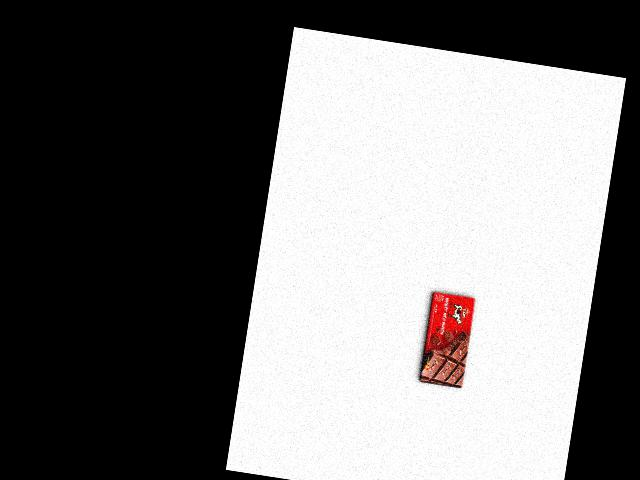chocolate: (415, 288, 478, 390)
